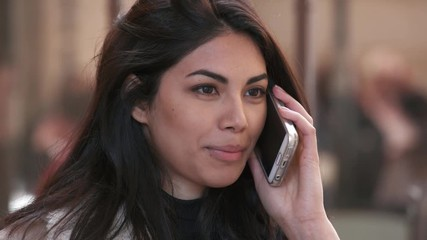phone: (258, 80, 319, 190)
talk: (177, 67, 329, 226)
